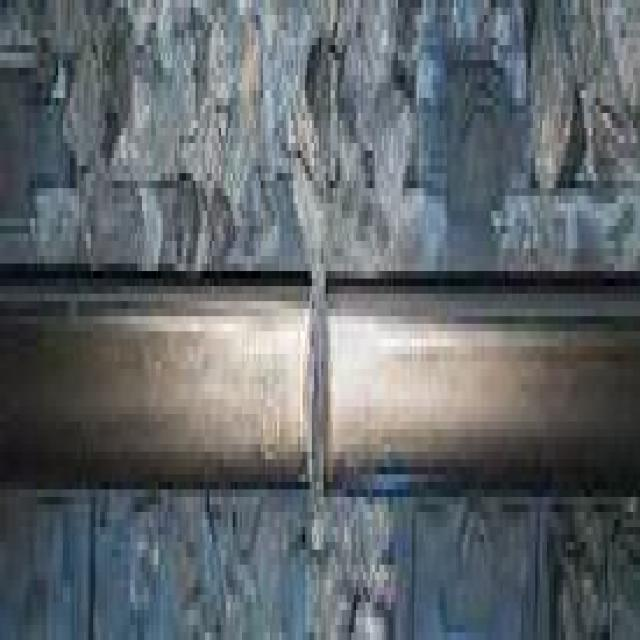broken_rail_high: (304, 272, 337, 488)
